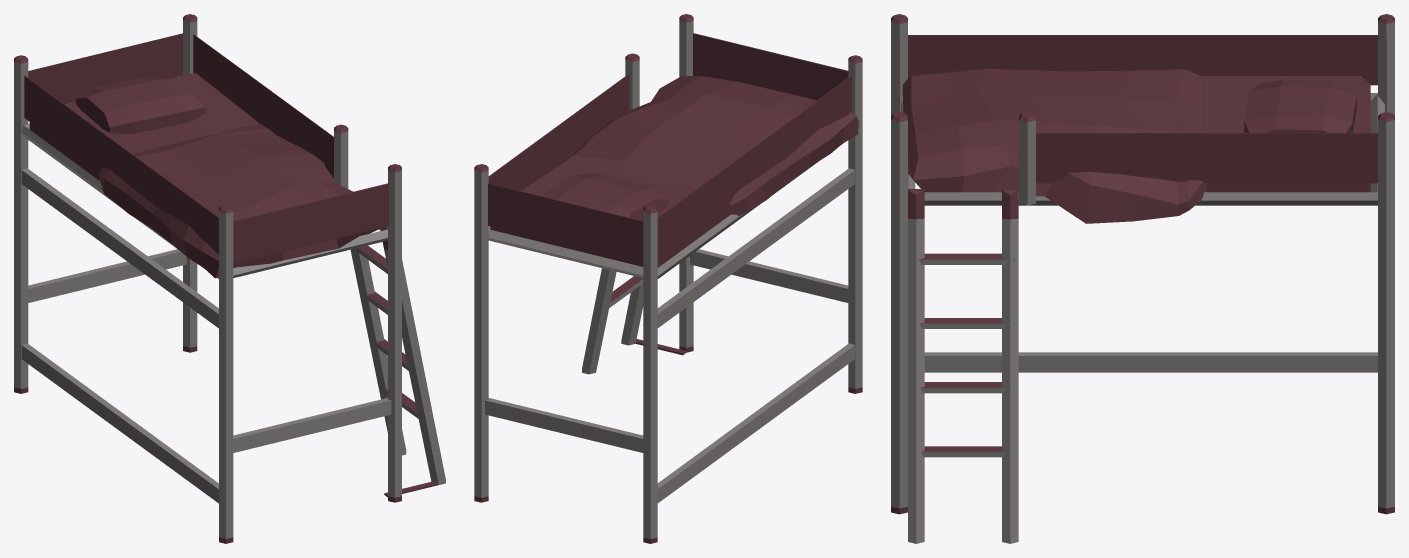
Rendered from bed-bunk-kids-watermelon.fbx.
3 views of the same model, side by side, from view 1: azimuth 30°, elevation 25°; view 2: azimuth 150°, elevation 25°; view 3: azimuth 270°, elevation 25° (orthographic). The views are drawn at different scales.
Visible parts, largest first — view 1: bed-bunk-kids-watermelon; view 2: bed-bunk-kids-watermelon; view 3: bed-bunk-kids-watermelon.
Boxes of the visible parts, x1,y1,x2,y2 form: bed-bunk-kids-watermelon: [14, 14, 445, 543]; bed-bunk-kids-watermelon: [474, 14, 862, 543]; bed-bunk-kids-watermelon: [891, 14, 1394, 543].
Bounding box in the file's own units: 1.33 × 1.79 × 2.07.
